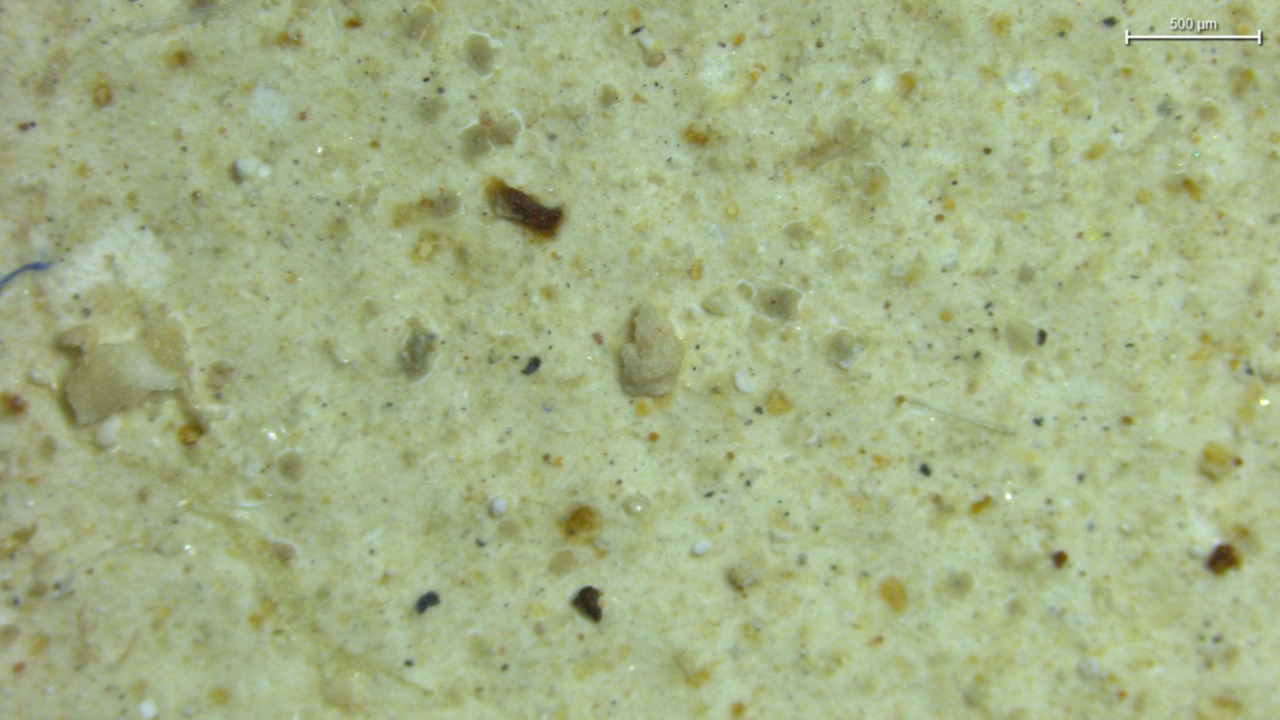microplastic_fragment: (65, 324, 187, 424), (620, 305, 685, 396)
